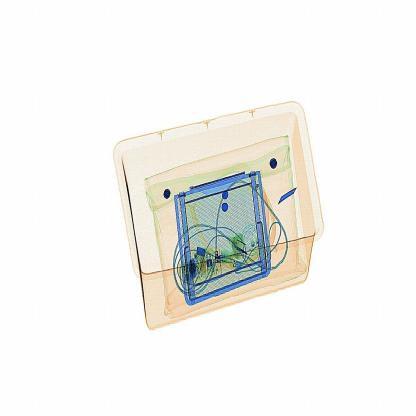pliers: (271, 180, 306, 210)
